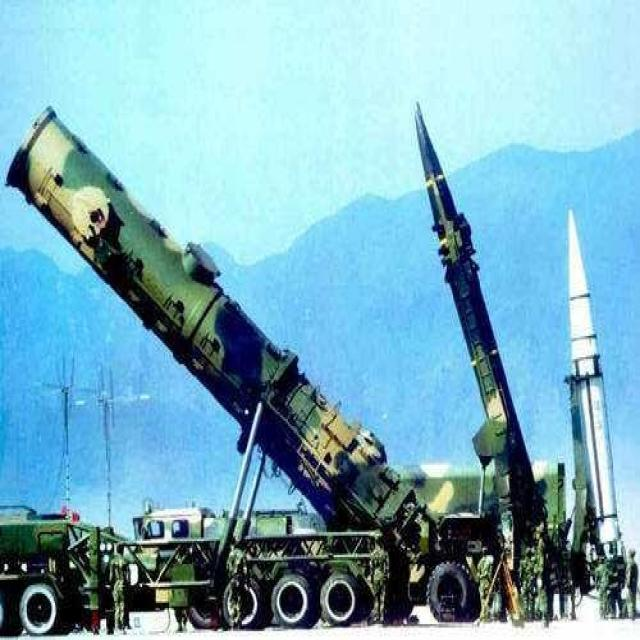missile: (408, 93, 536, 518), (555, 197, 630, 574)
